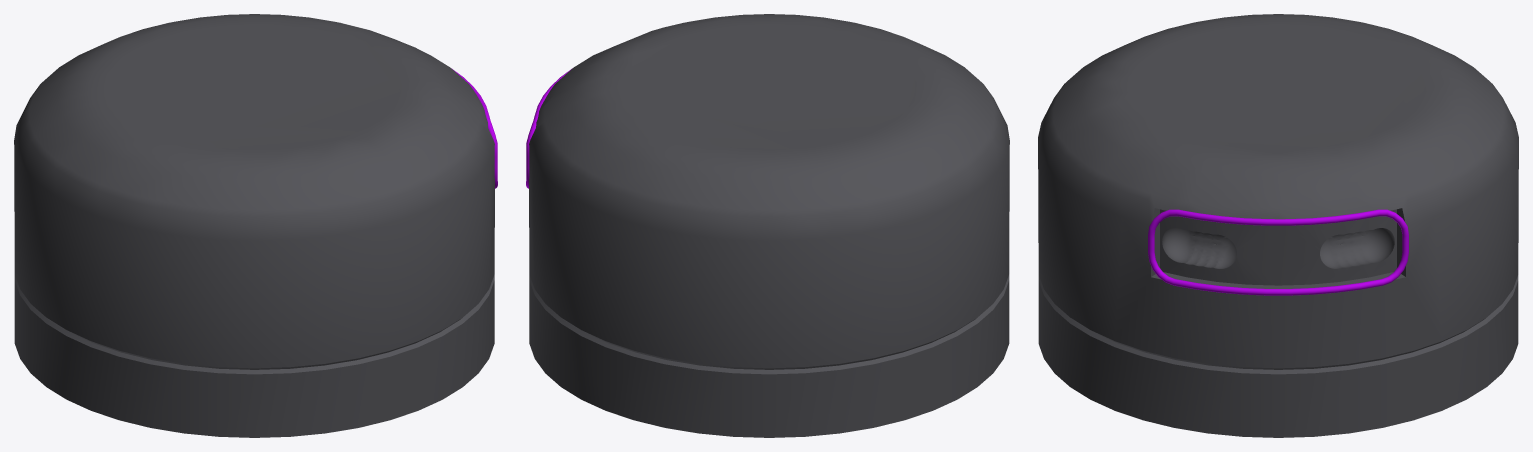
3 renders of one model, left to right at view 1: azimuth 30°, elevation 25°; view 2: azimuth 150°, elevation 25°; view 3: azimuth 270°, elevation 25°, orthographic.
Parts seen in each view (by area): view 1: n_dark; view 2: n_dark, n_band; view 3: n_dark, n_band.
Part boxes in pixels (left/top/right/bottom): n_dark: left=14, top=14, right=494, bottom=437; n_dark: left=529, top=14, right=1009, bottom=437; n_band: left=526, top=68, right=572, bottom=188; n_dark: left=1038, top=14, right=1518, bottom=437; n_band: left=1148, top=209, right=1408, bottom=295.
Size of the model in its own units: 0.0724 by 0.0411 by 0.072.
